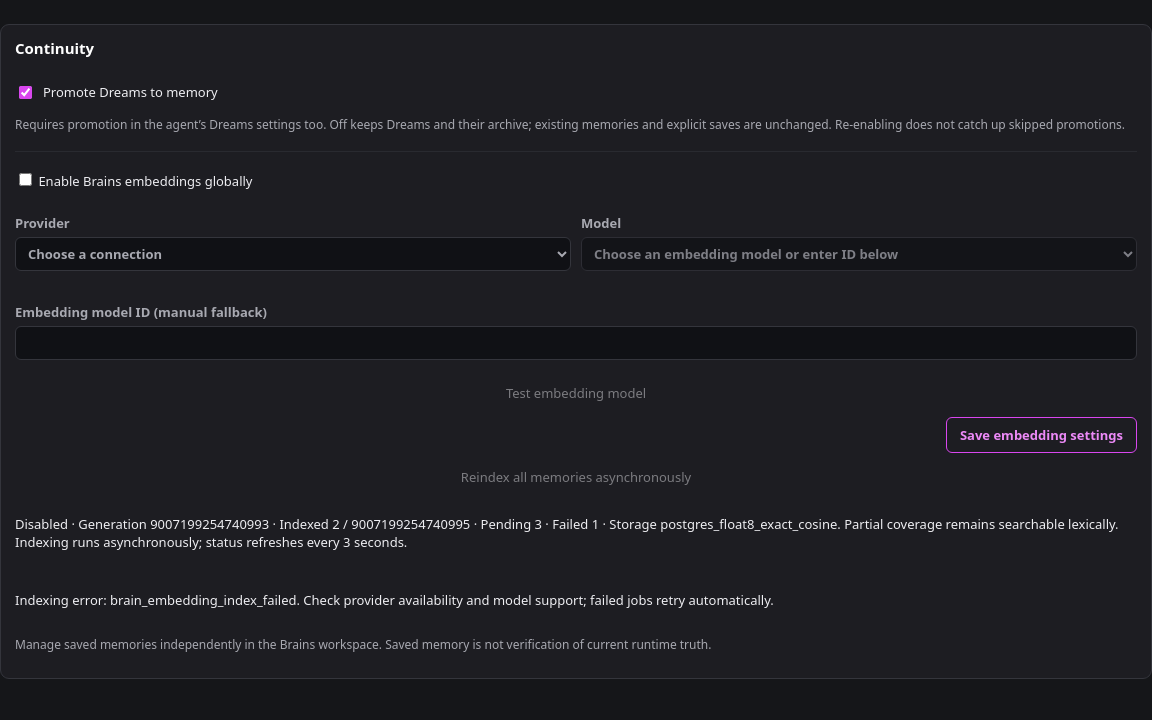
Test: Brain embedding settings › discards deferred discovery for a previous connection
The image size is (1152, 720).
Select "a" in the dropdown labelled "Provider" at (293, 254), box [15,237,571,271]
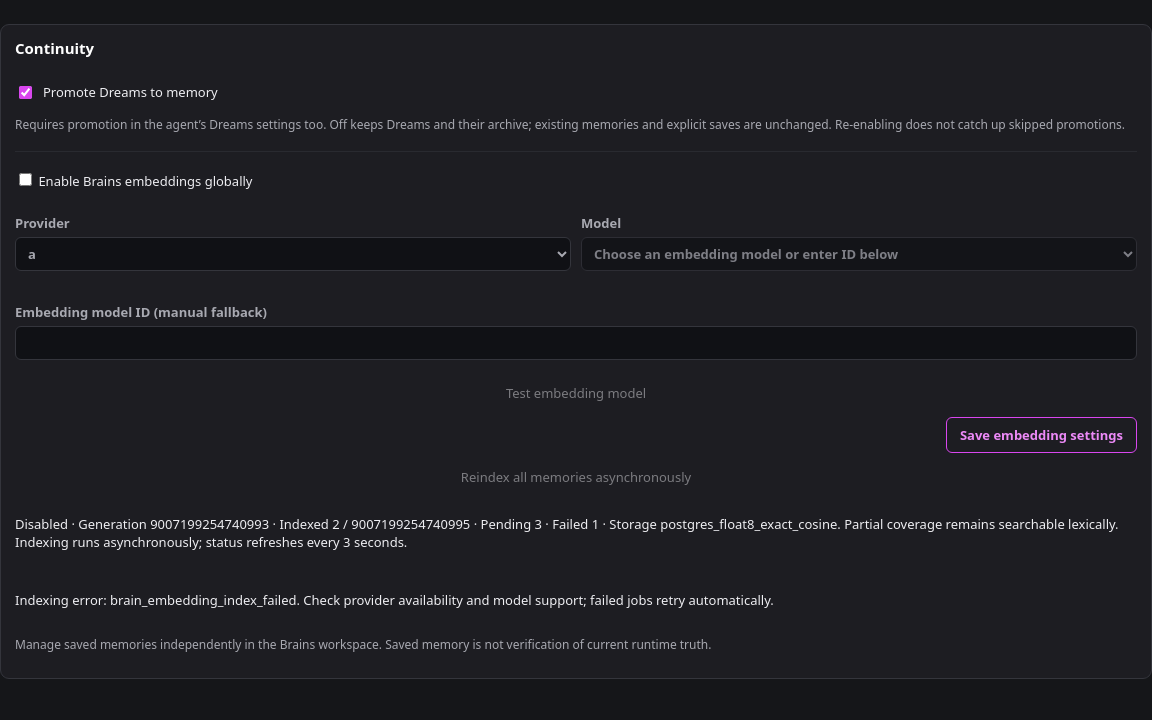
Select "b" in the dropdown labelled "Provider" at (293, 254), box [15,237,571,271]
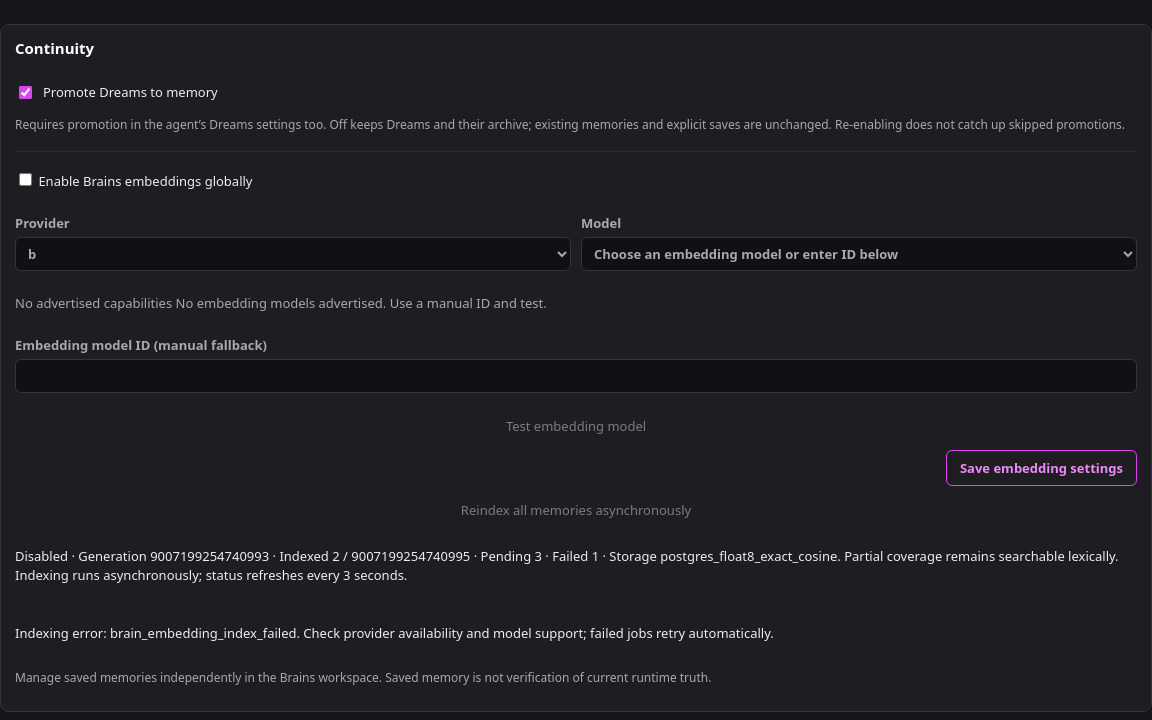
Check: the text "No advertised capabilities" is shown, box [15,294,172,312]
